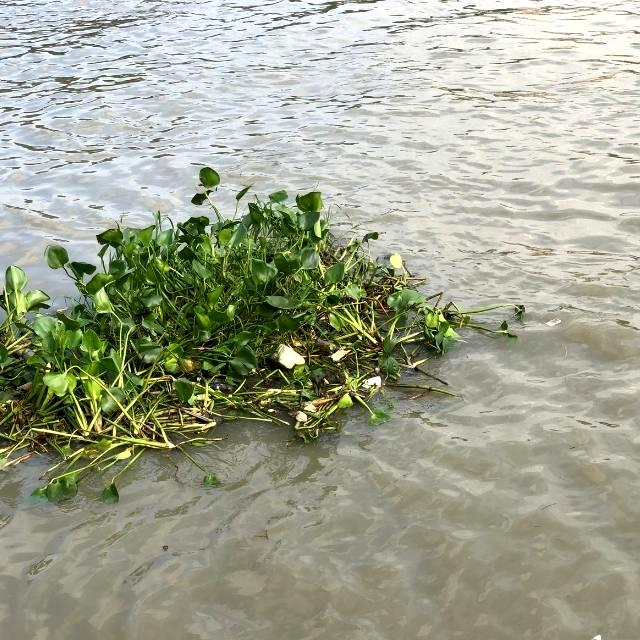water-hyacinth: (1, 165, 526, 517)
